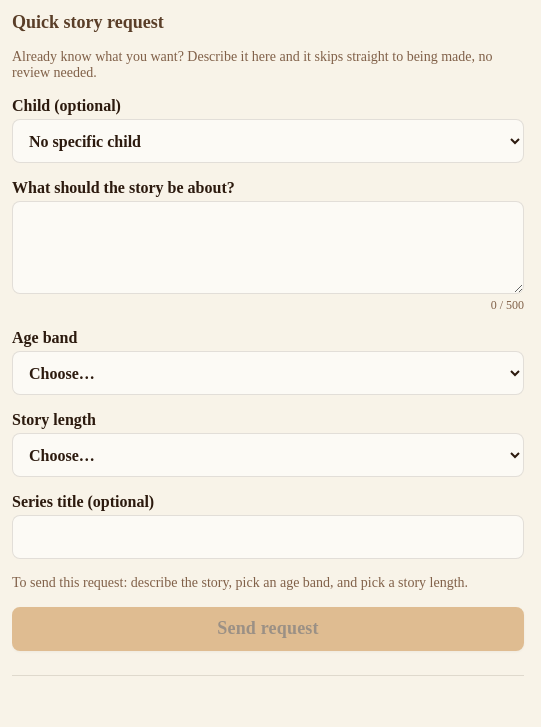
Test: RequestStoryForm › guardian mode › shows the blocked notice instead of the success notice when the response status is blocked
This screenshot has width=541, height=727.
Expected: the dropdown labelled "Child (optional)" is shown, 12,119 -> 524,163
In the text box labelled "What should the story be about?": (268, 248) 12,201 -> 524,294, type "A scary story"
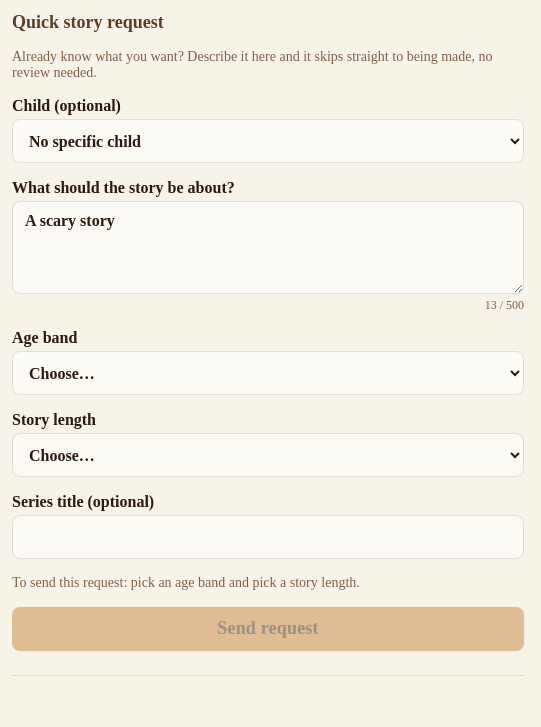
Select "Ages 8-11" in the dropdown labelled "Age band": (268, 373) 12,351 -> 524,395
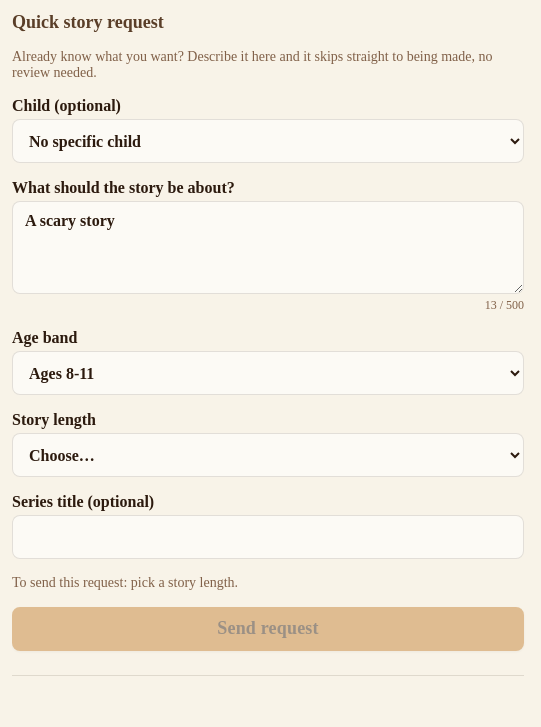
Select "medium" in the dropdown labelled "Story length": (268, 455) 12,433 -> 524,477
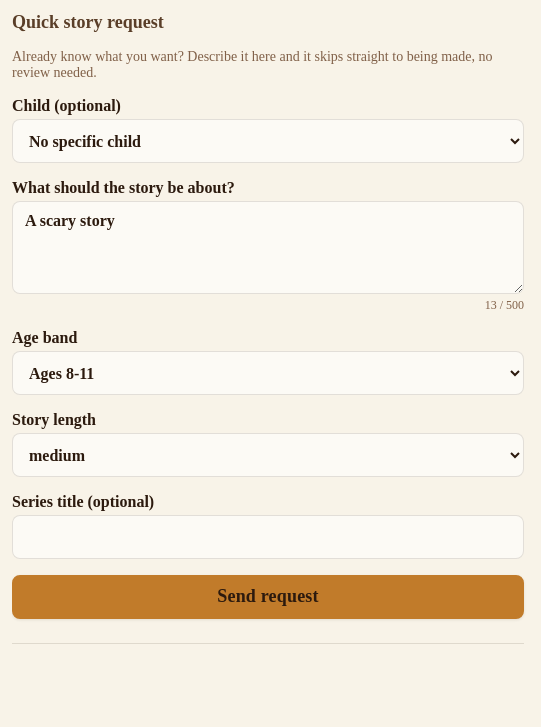
Click the button "Send request": (268, 597) 12,575 -> 524,619
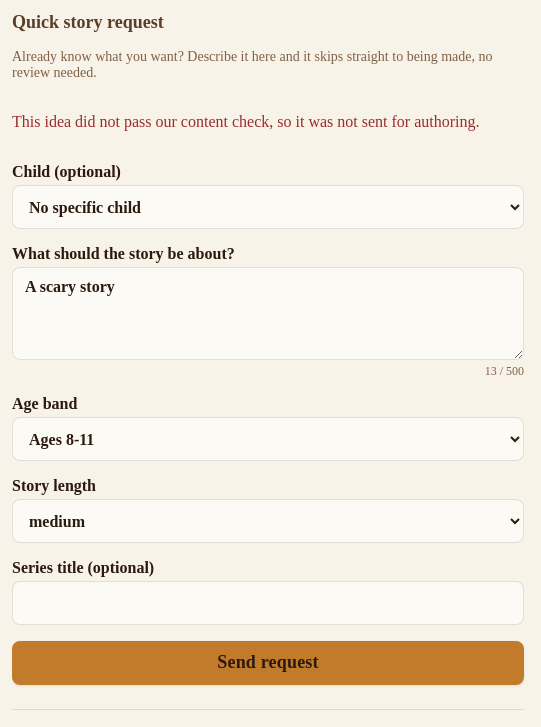
Result: the message shows "did not pass" at 12,113 -> 480,130
